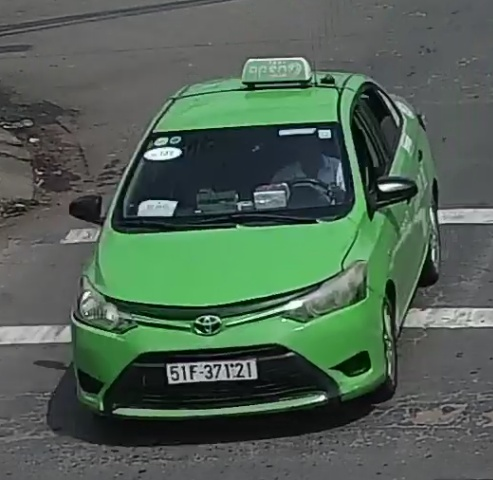vehicle plate: (157, 355, 260, 385)
